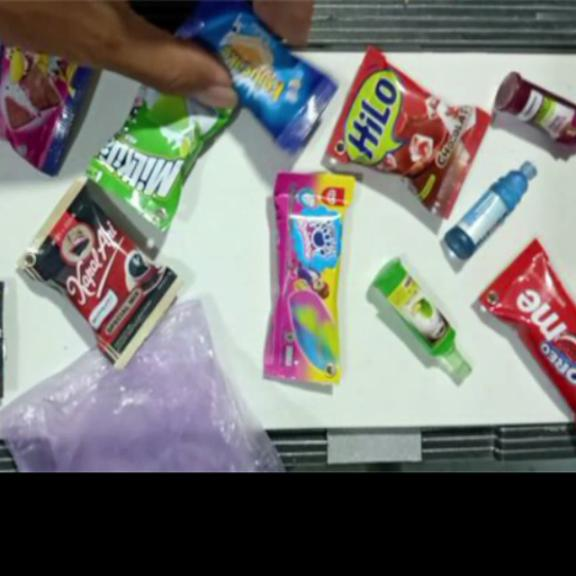Plastik: (0, 301, 287, 471), (15, 171, 182, 370), (327, 48, 492, 219), (175, 0, 338, 156), (88, 74, 235, 234), (262, 174, 356, 385), (476, 240, 576, 421), (434, 149, 545, 276), (372, 257, 472, 383), (0, 42, 94, 176), (494, 72, 576, 147)
